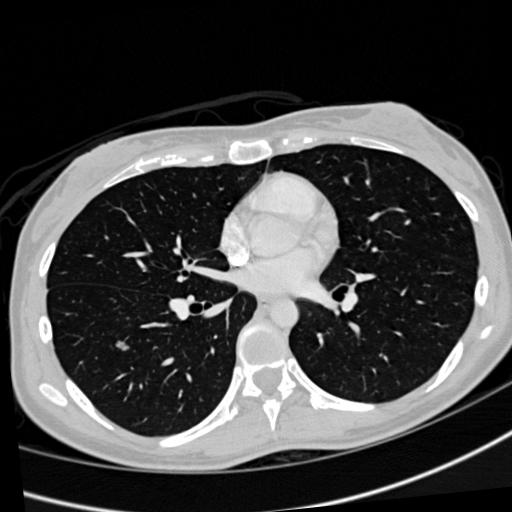nodule: (115, 338, 131, 354)
